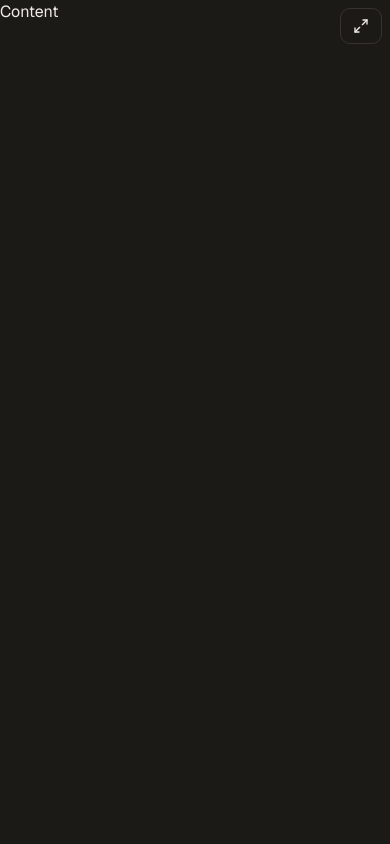
Test: InteractiveBottomSheet › opens bottom sheet when expand button clicked
Click the button with test id "expand-button" at (361,26), box [340,8,382,44]
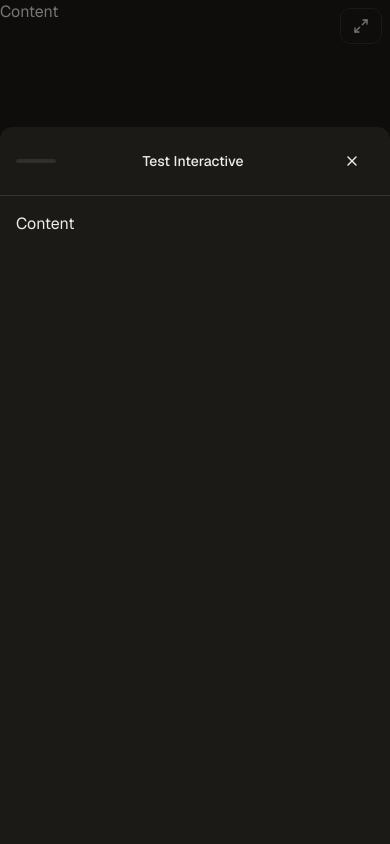
expect the element with test id "bottom-sheet" is shown: met
expect the heading "Test Interactive" is shown: met, box [142,152,244,170]
